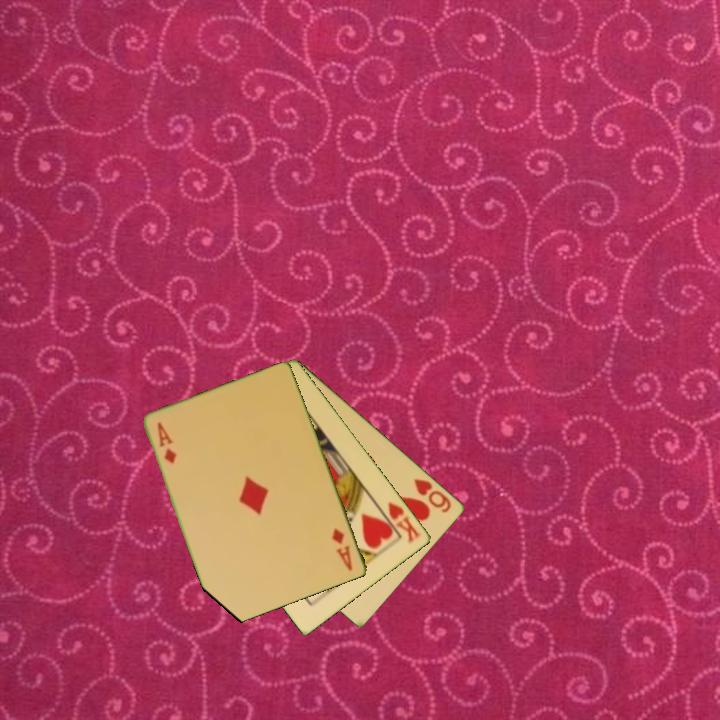6h: (411, 475, 455, 516)
Ad: (329, 524, 356, 574), (154, 419, 180, 467)
Kh: (376, 499, 424, 546)
